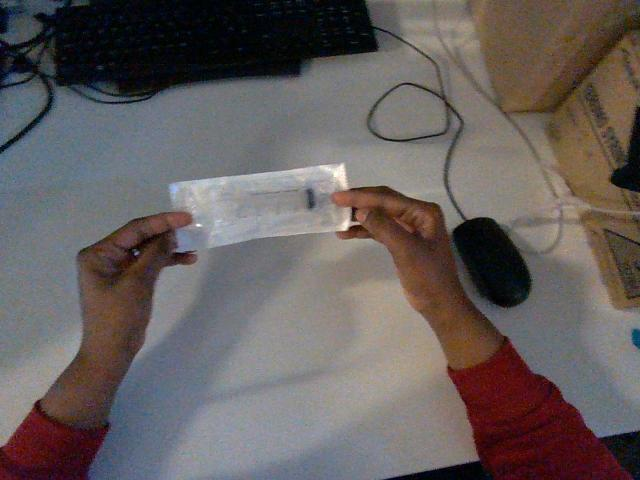syringe: (169, 164, 350, 250)
